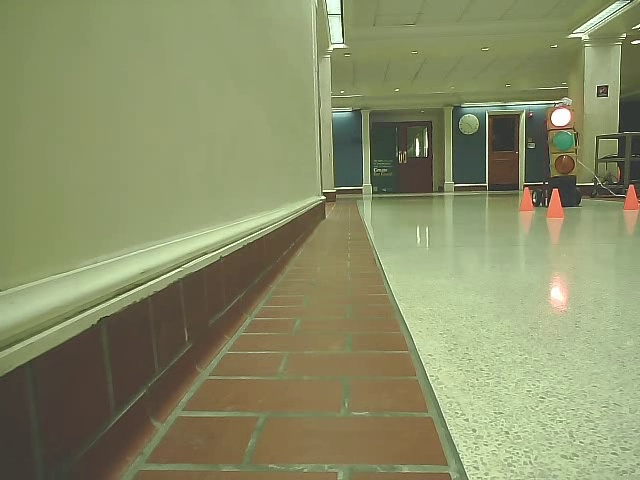red: (544, 106, 581, 179)
